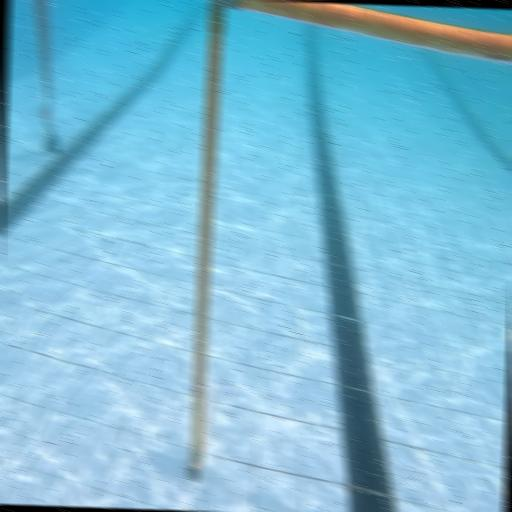gate: (184, 0, 512, 492)
